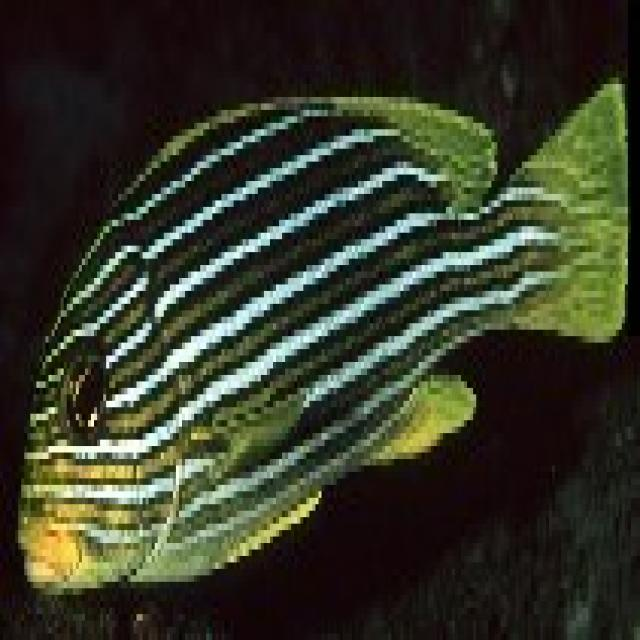RibbonedSweetlips: (16, 79, 628, 595)
